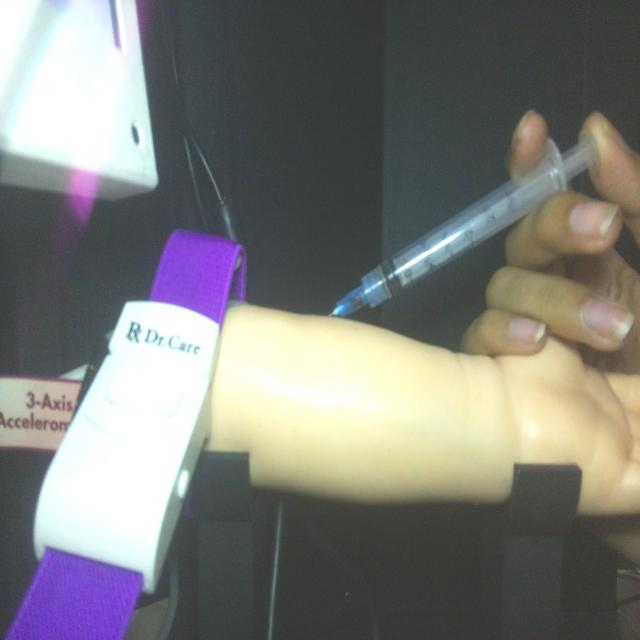25 degrees: (327, 127, 601, 320)
